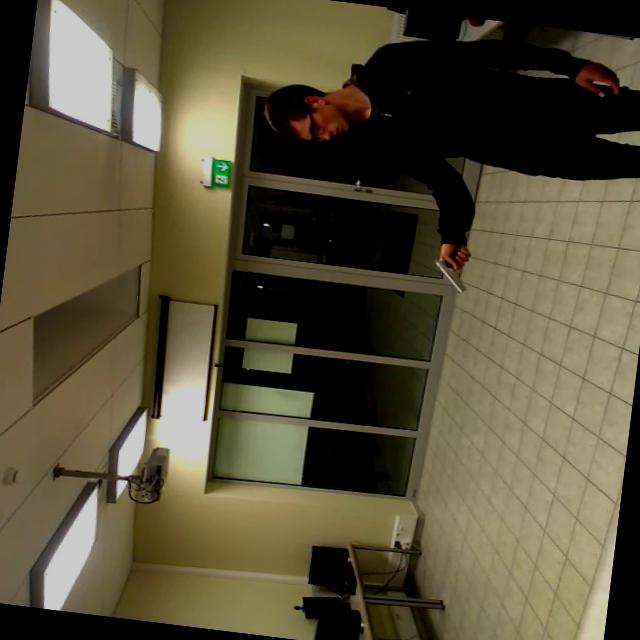handgun: (421, 235, 483, 296)
